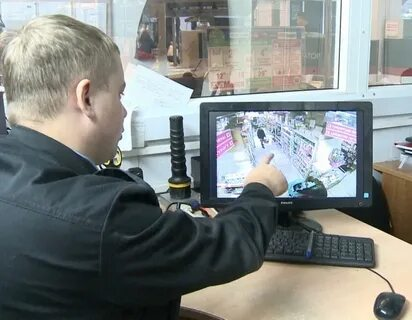awake: (1, 13, 193, 320)
